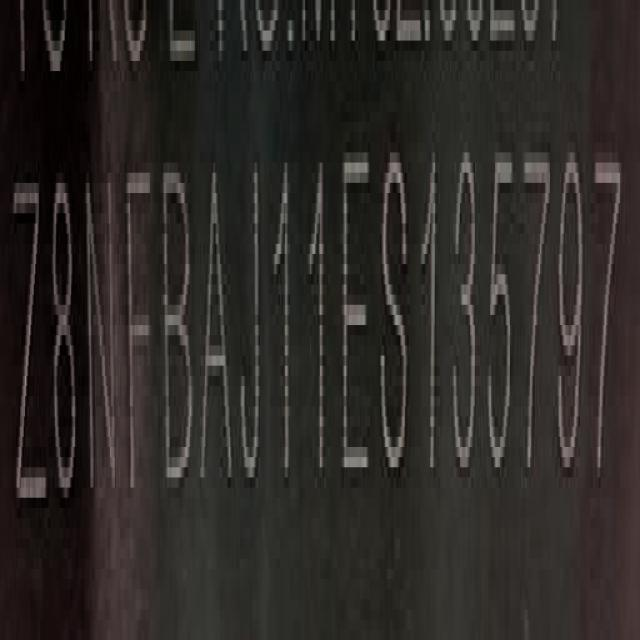1: (270, 146, 294, 498), (306, 154, 329, 473), (420, 144, 440, 490)
3: (453, 145, 480, 488)
5: (490, 138, 516, 487)
7: (595, 143, 623, 492), (523, 141, 550, 488)
8: (50, 168, 76, 517)
9: (556, 144, 584, 487)
A: (203, 154, 231, 495)
B: (161, 150, 193, 478)
E: (340, 150, 374, 493)
F: (123, 162, 156, 483)
J: (238, 166, 264, 499)
N: (86, 163, 123, 510)
S: (383, 142, 413, 486)
Z: (17, 170, 44, 522)
